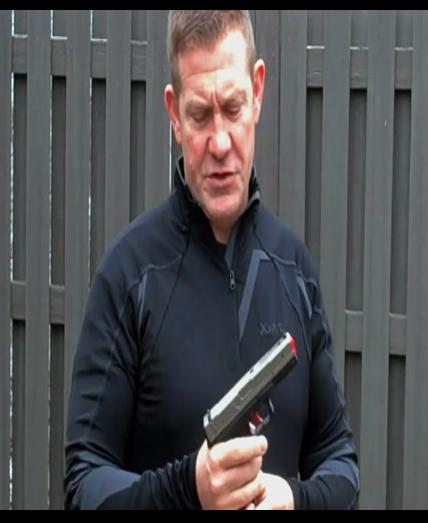pistol: (194, 327, 305, 505)
